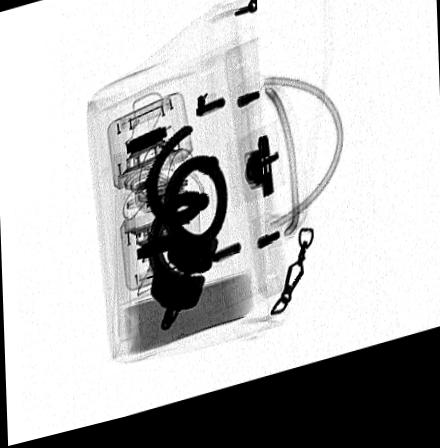HandCuffs: (135, 135, 226, 340)
